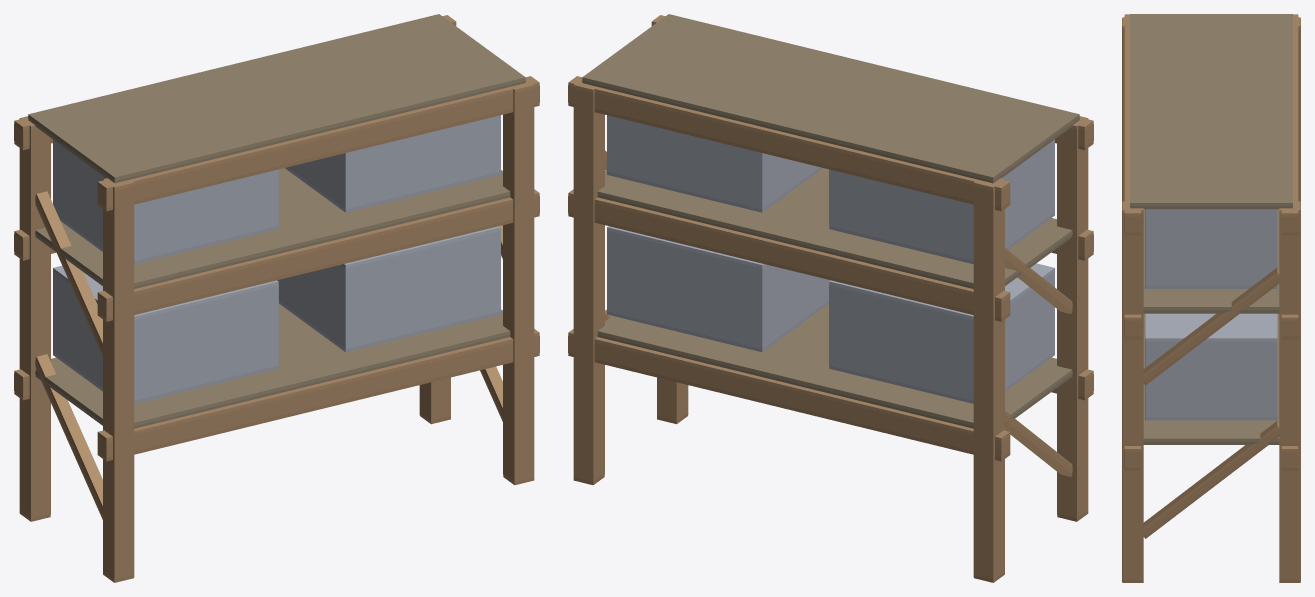
Rendered from raf.glb.
3 renders of one model, left to right at view 1: azimuth 30°, elevation 25°; view 2: azimuth 150°, elevation 25°; view 3: azimuth 270°, elevation 25°, orthographic. The views are drawn at different scales.
Visible parts, largest first — view 1: Raf; view 2: Raf; view 3: Raf.
Boxes of the visible parts, x1,y1,x2,y2 form: Raf: (14, 14, 539, 582); Raf: (568, 14, 1093, 582); Raf: (1122, 14, 1300, 582).
Size of the model in its own units: 3.9 by 3.45 by 1.48.
